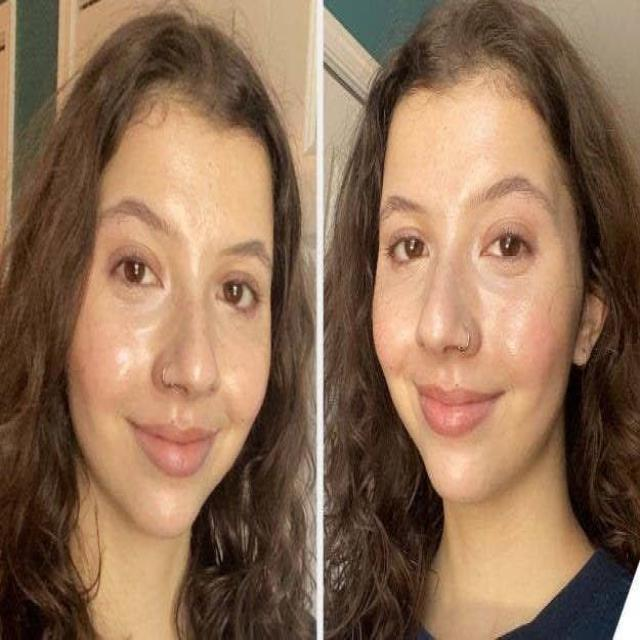oily: (109, 324, 158, 380), (222, 351, 256, 421), (151, 476, 178, 534), (186, 216, 210, 280)
